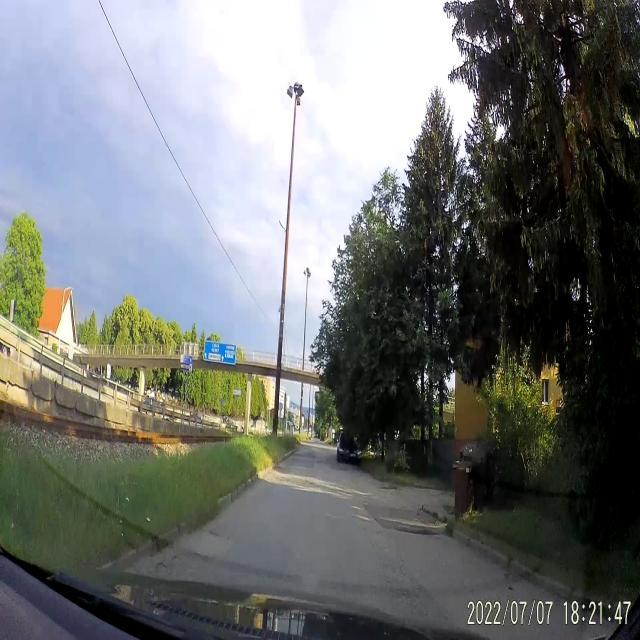Pothole: (379, 518, 446, 544), (203, 517, 238, 544), (376, 482, 398, 494)
